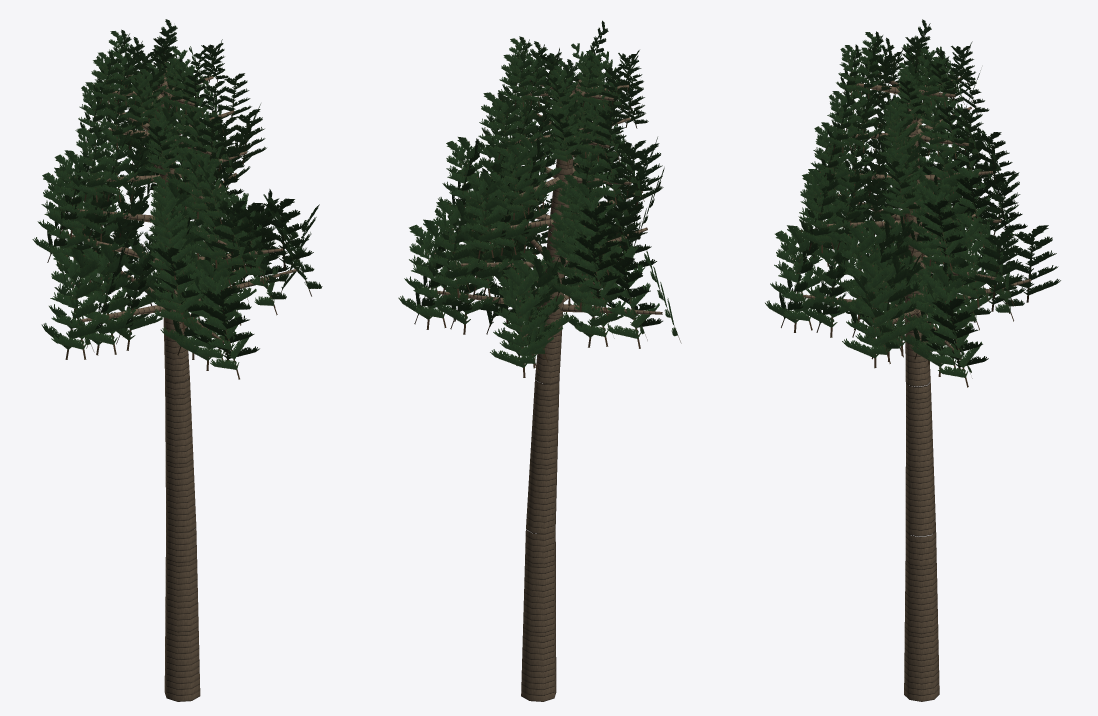
The model's file is SM_Art_Veg_Pine_1.gltf.
3 views of the same model, side by side, from view 1: azimuth 30°, elevation 25°; view 2: azimuth 150°, elevation 25°; view 3: azimuth 270°, elevation 25° (orthographic). The views are drawn at different scales.
Visible parts, largest first — view 1: SM_Art_Veg_Pine_1; view 2: SM_Art_Veg_Pine_1; view 3: SM_Art_Veg_Pine_1.
Boxes of the visible parts, left/top/right/bottom form: SM_Art_Veg_Pine_1: left=32, top=19, right=322, bottom=701; SM_Art_Veg_Pine_1: left=398, top=20, right=681, bottom=701; SM_Art_Veg_Pine_1: left=765, top=19, right=1060, bottom=701.
Bounding box in the file's own units: 5.43 × 11.39 × 5.5.
Materials: 2 (2 with a texture image).
